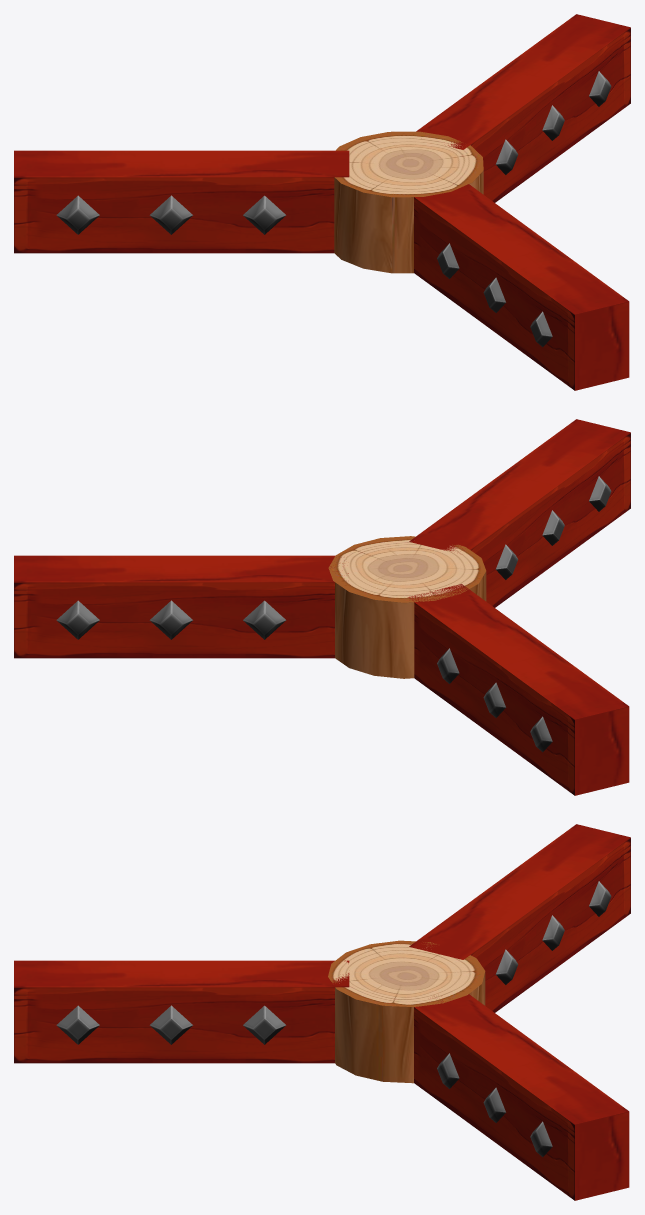
The model's file is three_blade_red_02.fbx.
The picture shows the model from 3 angles, top to bottom: view 1: azimuth 30°, elevation 25°; view 2: azimuth 150°, elevation 25°; view 3: azimuth 270°, elevation 25°; orthographic projection.
Parts seen in each view (by area): view 1: Blade_53, Blade_52, Blade_54, wood_center_24; view 2: Blade_54, Blade_53, Blade_52, wood_center_24; view 3: Blade_52, Blade_54, Blade_53, wood_center_24.
Boxes of the visible parts, bbox=[...] form: Blade_53: bbox=[14, 150, 349, 253]; Blade_52: bbox=[414, 184, 629, 390]; Blade_54: bbox=[416, 14, 630, 202]; wood_center_24: bbox=[334, 131, 483, 273]; Blade_54: bbox=[14, 555, 348, 658]; Blade_53: bbox=[408, 584, 629, 795]; Blade_52: bbox=[409, 419, 630, 607]; wood_center_24: bbox=[328, 536, 486, 678]; Blade_52: bbox=[14, 960, 349, 1063]; Blade_54: bbox=[414, 994, 629, 1200]; Blade_53: bbox=[409, 824, 630, 1012]; wood_center_24: bbox=[328, 940, 485, 1083].
Size of the model in its own units: 339 by 40 by 294.
